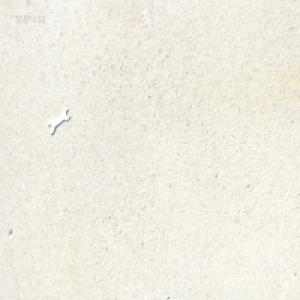Wrench: (46, 106, 69, 138)
